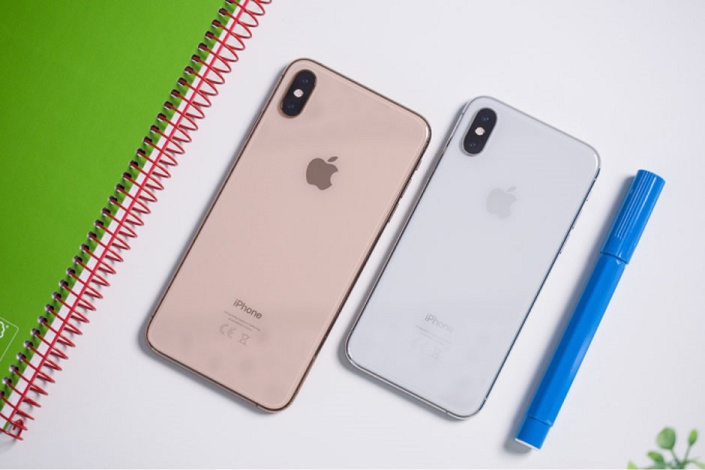apple: (465, 170, 529, 231), (300, 146, 349, 196)
